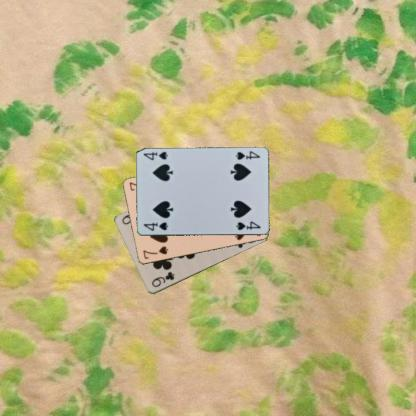4s: (141, 220, 169, 232), (233, 149, 260, 161)
7s: (140, 244, 170, 260)
9c: (149, 269, 176, 289)
